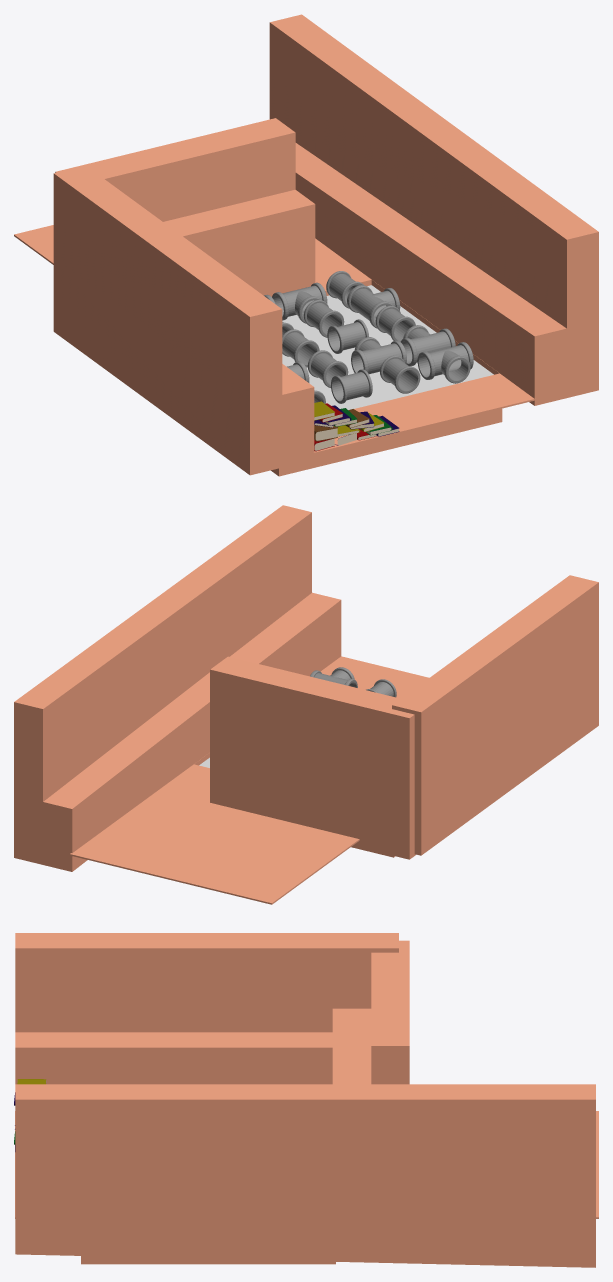
3 renders of one model, top to bottom at view 1: azimuth 30°, elevation 25°; view 2: azimuth 150°, elevation 25°; view 3: azimuth 270°, elevation 25°, orthographic. The views are drawn at different scales.
Parts seen in each view (by area): view 1: Cube.011, Cube.010, Cube.009, Cube.008, Plane, Cube.025, Cylinder.020, Cylinder.003, Cylinder.008, Cylinder.005, Cylinder.012, Cylinder.019 (+7 smaller); view 2: Cube.011, Cube.010, Cube.009, Cube.008, Cylinder.020; view 3: Cube.011, Cube.010, Cube.009, Cube.008.
Boxes of the visible parts, x1,y1,x2,y2 form: Cube.011: (269,14,598,405); Cube.010: (53,165,314,475); Cube.009: (55,118,315,296); Cube.008: (14,225,535,476); Plane: (282,285,493,409); Cube.025: (314,403,399,451); Cylinder.020: (417,342,473,383); Cylinder.003: (351,337,406,374); Cylinder.008: (401,325,455,366); Cylinder.005: (347,285,400,328); Cylinder.012: (272,282,327,323); Cylinder.019: (380,355,420,393); Cube.011: (14,505,341,871); Cube.010: (392,575,598,855); Cube.009: (210,656,415,859); Cube.008: (70,656,429,904); Cylinder.020: (310,667,357,687); Cube.011: (15,1084,595,1267); Cube.010: (15,933,398,1084); Cube.009: (332,940,409,1084); Cube.008: (15,1111,598,1264).
Bounding box in the file's own units: 6174 × 3371 × 9170.
